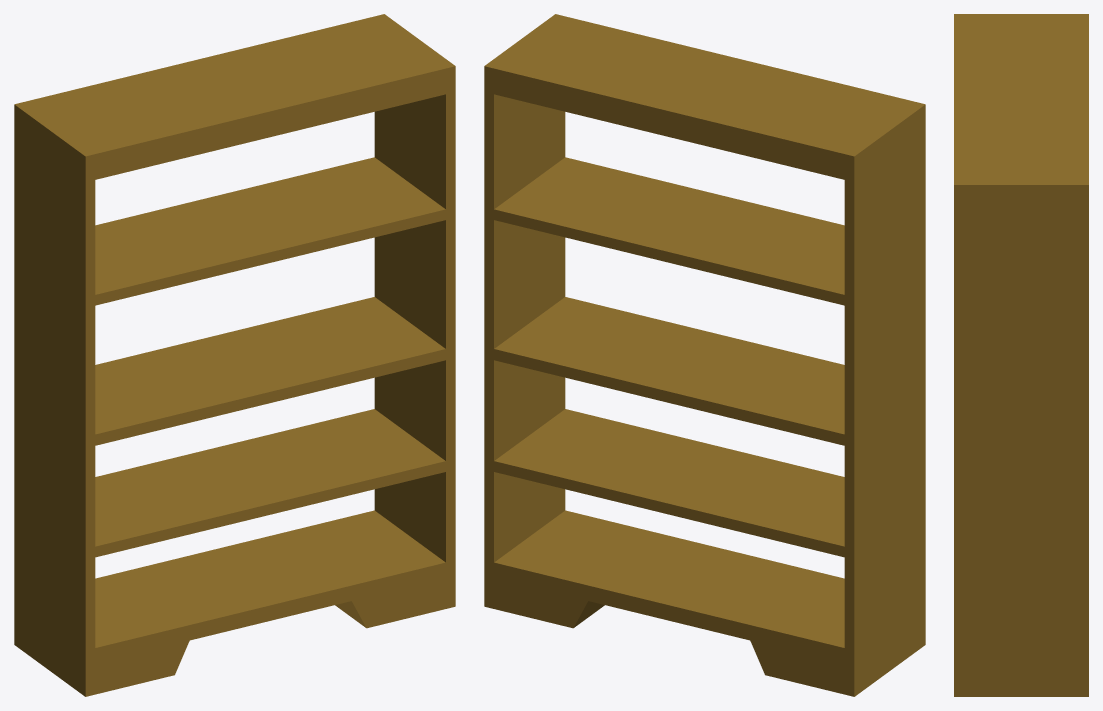
File: ShelfUV.fbx
3 renders of one model, left to right at view 1: azimuth 30°, elevation 25°; view 2: azimuth 150°, elevation 25°; view 3: azimuth 270°, elevation 25°, orthographic. The views are drawn at different scales.
Parts seen in each view (by area): view 1: Cube.005; view 2: Cube.005; view 3: Cube.005.
Boxes of the visible parts, box(x1,y1,x2,y2) form: Cube.005: box(14, 14, 455, 696); Cube.005: box(484, 14, 925, 696); Cube.005: box(954, 14, 1088, 696).
Bounding box in the file's own units: 150 × 209 × 50.
